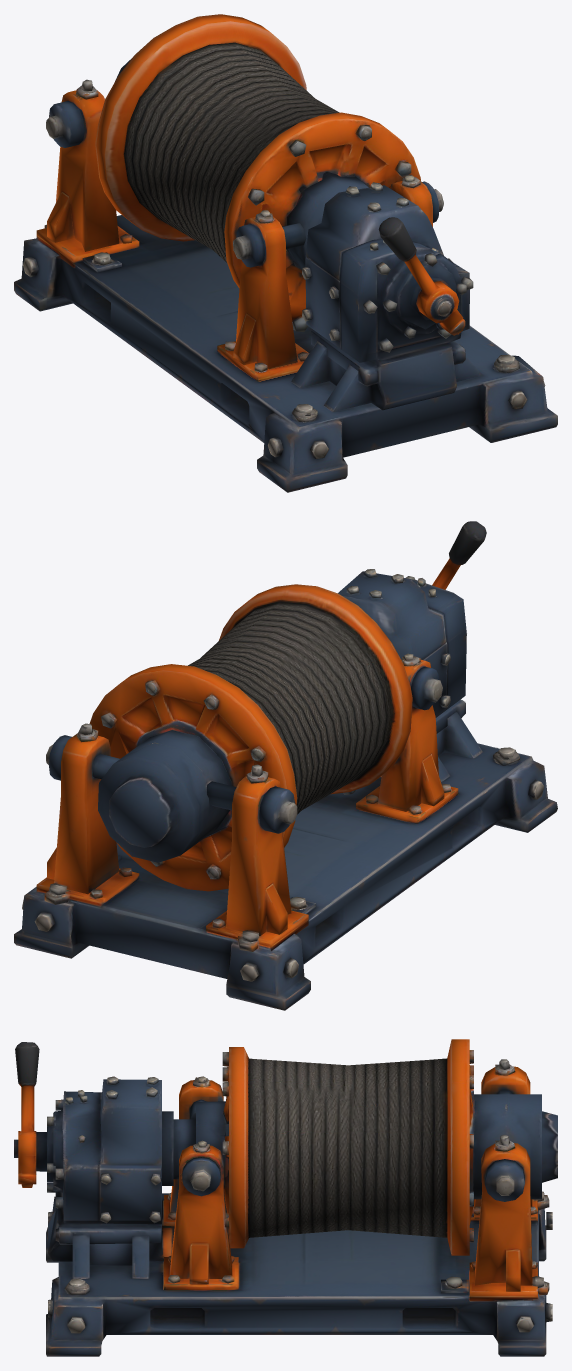
The picture shows the model from 3 angles, top to bottom: view 1: azimuth 30°, elevation 25°; view 2: azimuth 150°, elevation 25°; view 3: azimuth 270°, elevation 25°; orthographic projection. The views are drawn at different scales.
Visible parts, largest first — view 1: tripo_node_f28d55ed-9421-471b-aa7e-064af2dcc022; view 2: tripo_node_f28d55ed-9421-471b-aa7e-064af2dcc022; view 3: tripo_node_f28d55ed-9421-471b-aa7e-064af2dcc022.
Part boxes in pixels (x1,y1,x2,y2): tripo_node_f28d55ed-9421-471b-aa7e-064af2dcc022: (14,14,557,492); tripo_node_f28d55ed-9421-471b-aa7e-064af2dcc022: (14,521,557,1010); tripo_node_f28d55ed-9421-471b-aa7e-064af2dcc022: (14,1039,557,1356).
Bounding box in the file's own units: 0.6751 × 0.65 × 1.28.
Materials: 1 (1 with a texture image).
